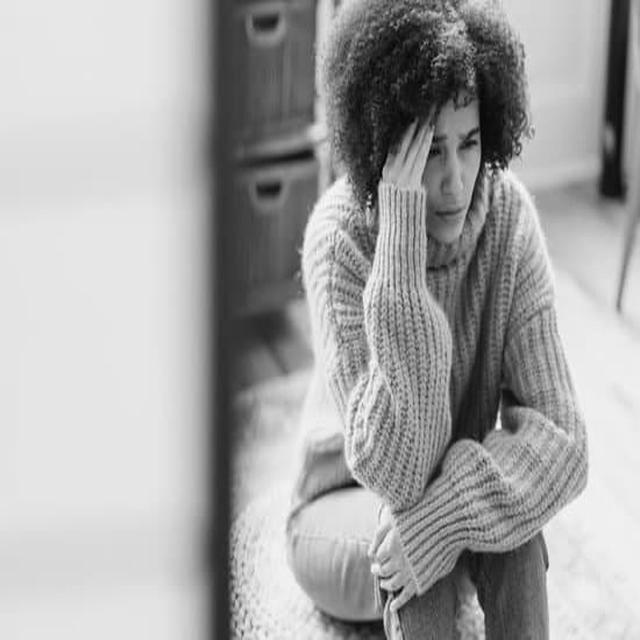Sadness: (418, 92, 479, 244)
